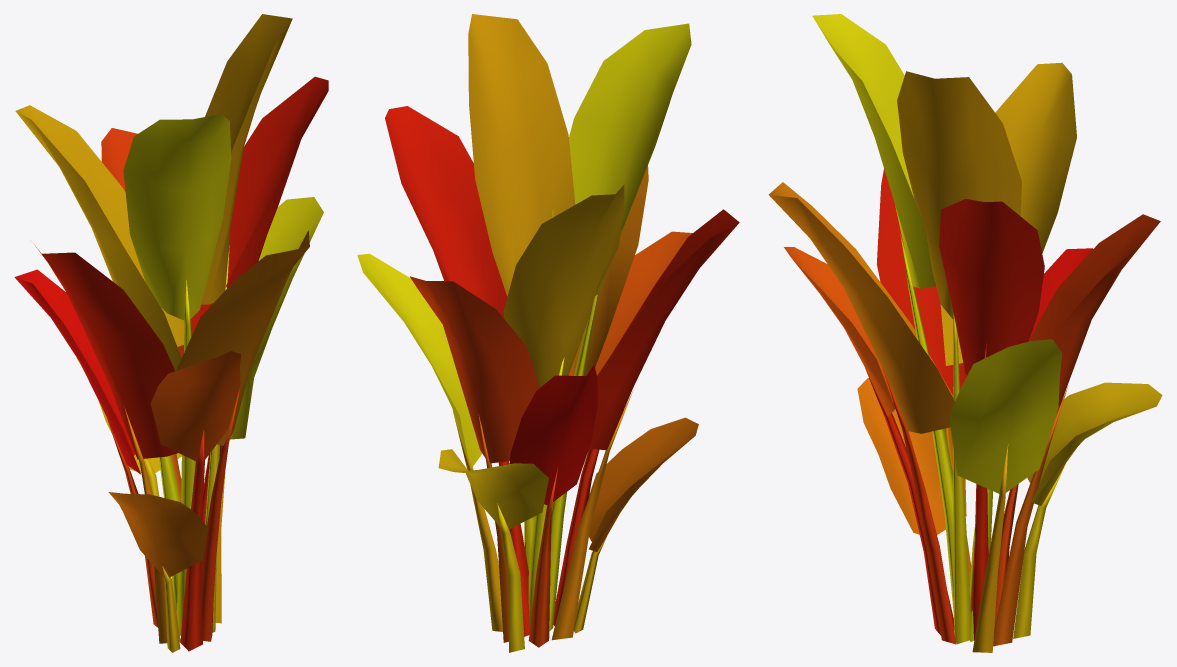
The model's file is G_Plant_006_S1.FBX.
The picture shows the model from 3 angles, left to right: view 1: azimuth 30°, elevation 25°; view 2: azimuth 150°, elevation 25°; view 3: azimuth 270°, elevation 25°; orthographic projection. The views are drawn at different scales.
Visible parts, largest first — view 1: G_Plant_006_S1_P01_LOD0; view 2: G_Plant_006_S1_P01_LOD0; view 3: G_Plant_006_S1_P01_LOD0.
Part boxes in pixels (<box>): G_Plant_006_S1_P01_LOD0: <box>14,14,328,652</box>; G_Plant_006_S1_P01_LOD0: <box>357,14,739,652</box>; G_Plant_006_S1_P01_LOD0: <box>768,14,1162,652</box>.
Size of what is drawn, in the model's own units: 146 by 253 by 151.
